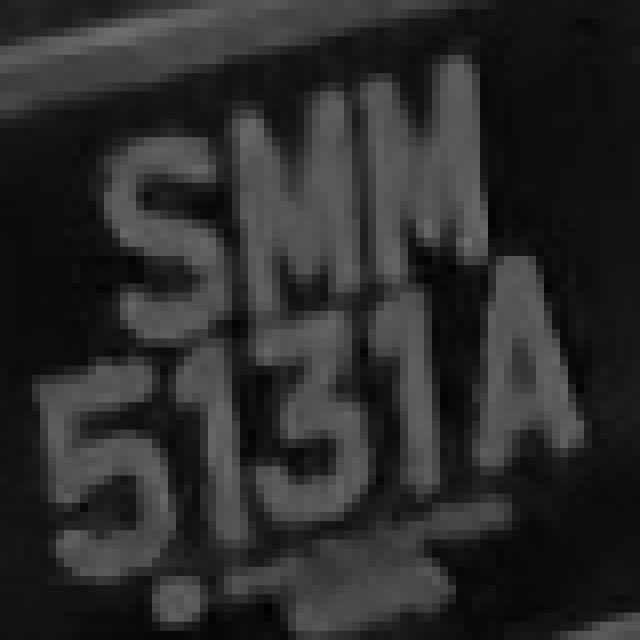1: (184, 274, 264, 567), (392, 238, 456, 530)
3: (232, 302, 392, 539)
5: (32, 302, 176, 622)
A: (464, 210, 568, 512)
M: (208, 73, 376, 366), (336, 46, 496, 302)
S: (80, 110, 224, 366)
